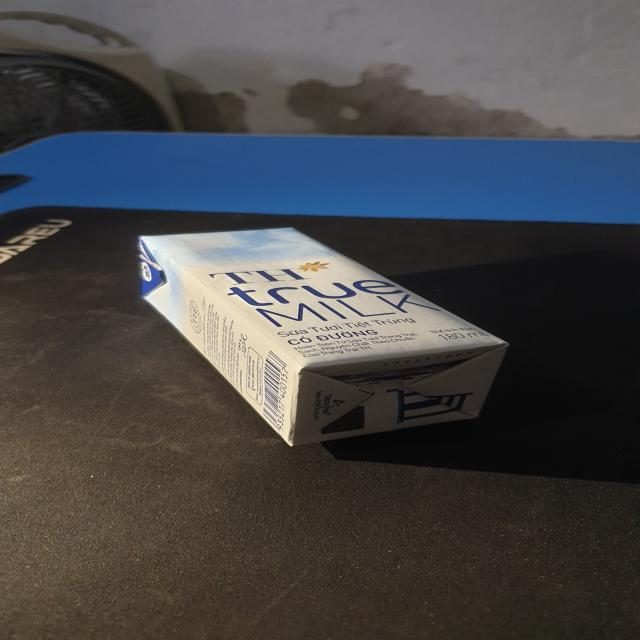TH: (138, 226, 512, 447)
